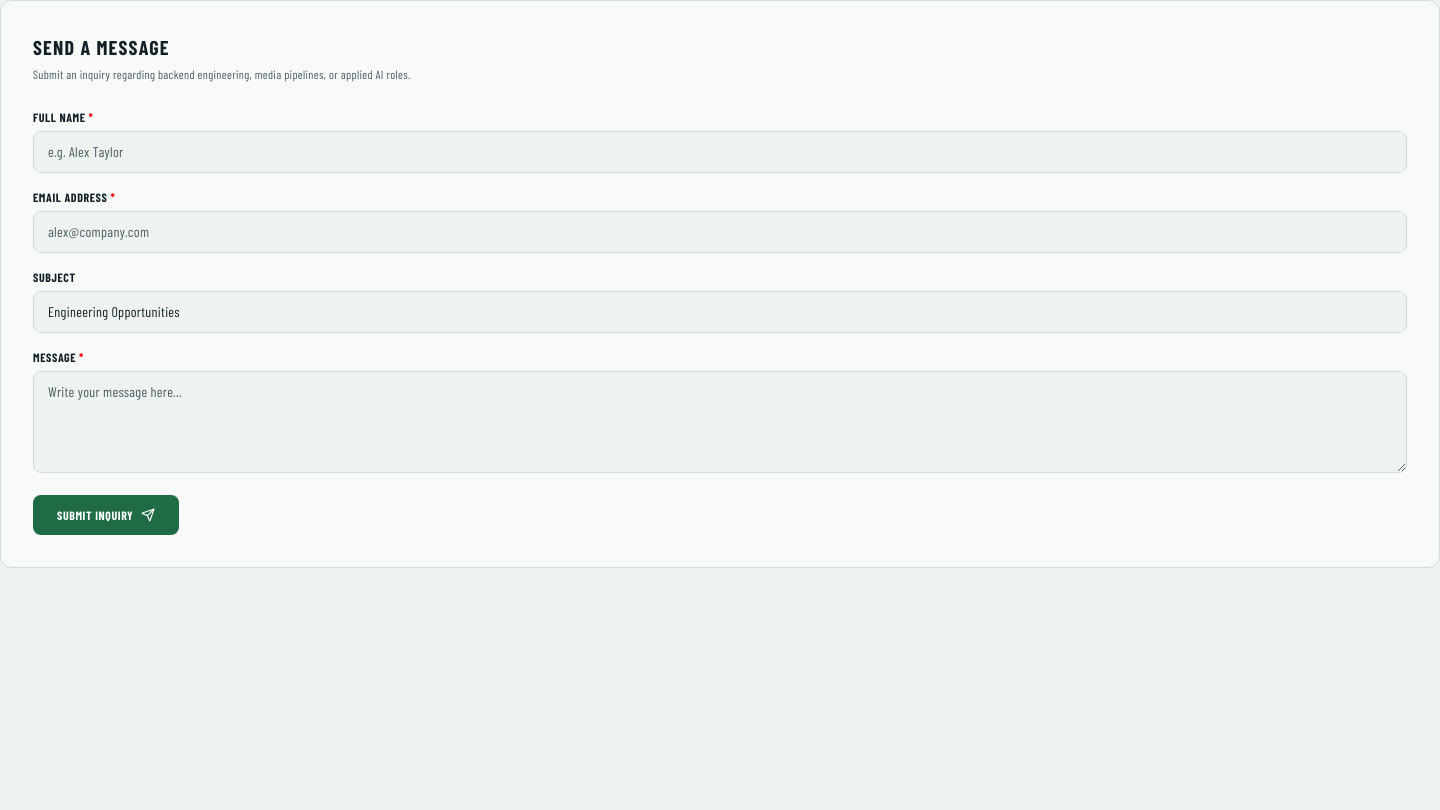
Test: ContactForm Component › handles server submission errors, preserves entered field values, and provides retry option
In the field labelled "Full Name *": [720, 152] box [33, 130, 1407, 172], type "Sam Reed"
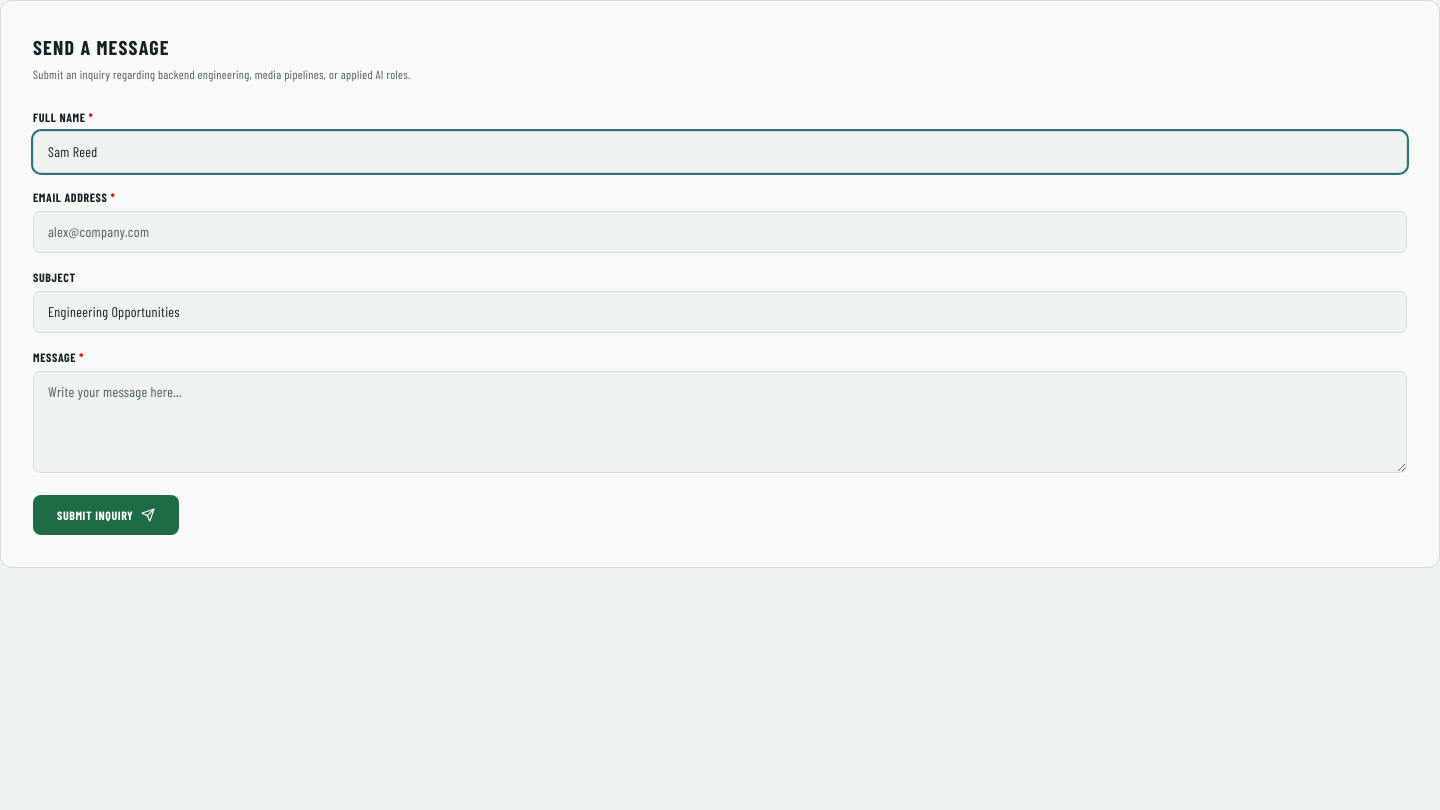
In the field labelled "Email Address *": [720, 232] box [33, 210, 1407, 252], type "sam@example.com"
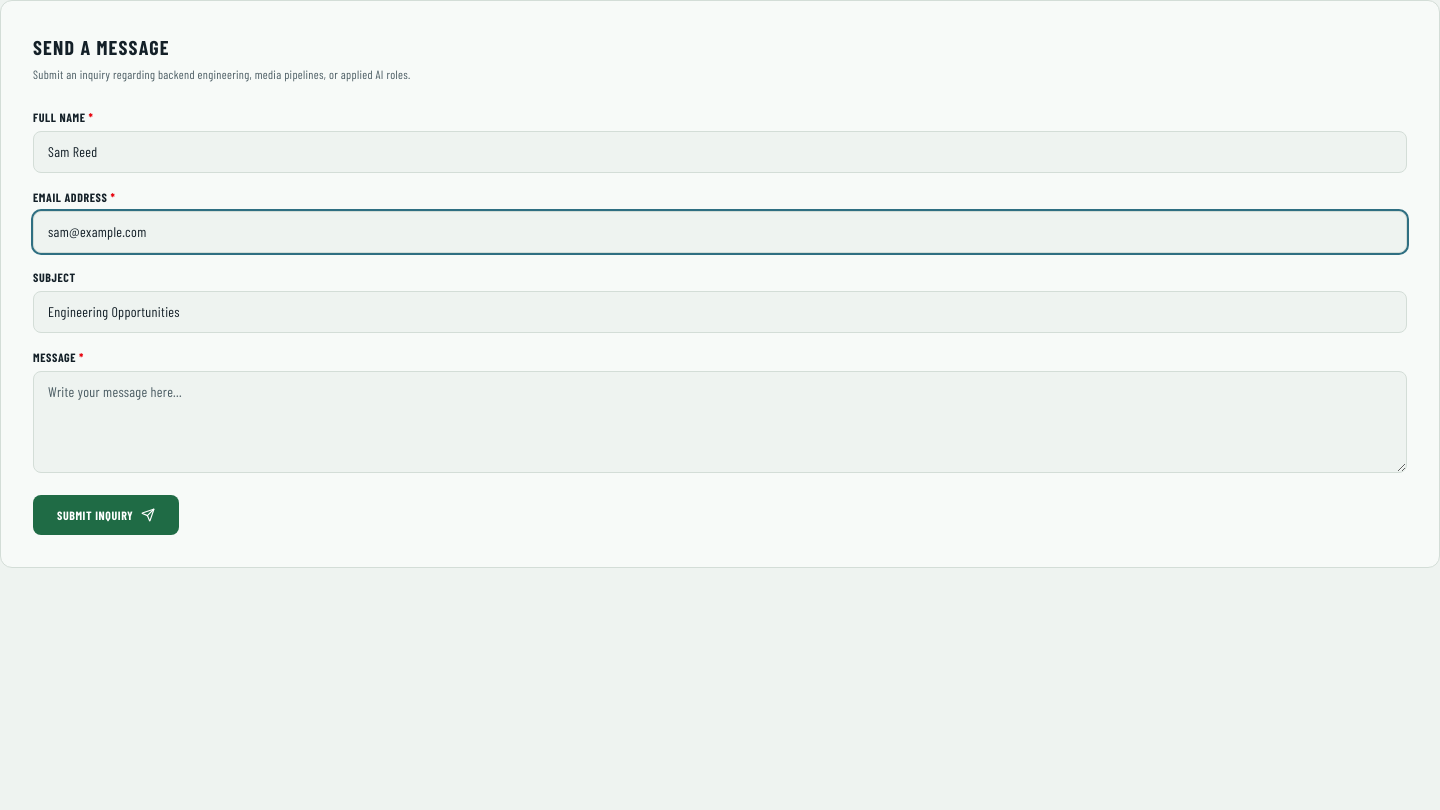
In the text box labelled "Message *": [720, 422] box [33, 370, 1407, 472], type "Checking pipeline throughput specs."
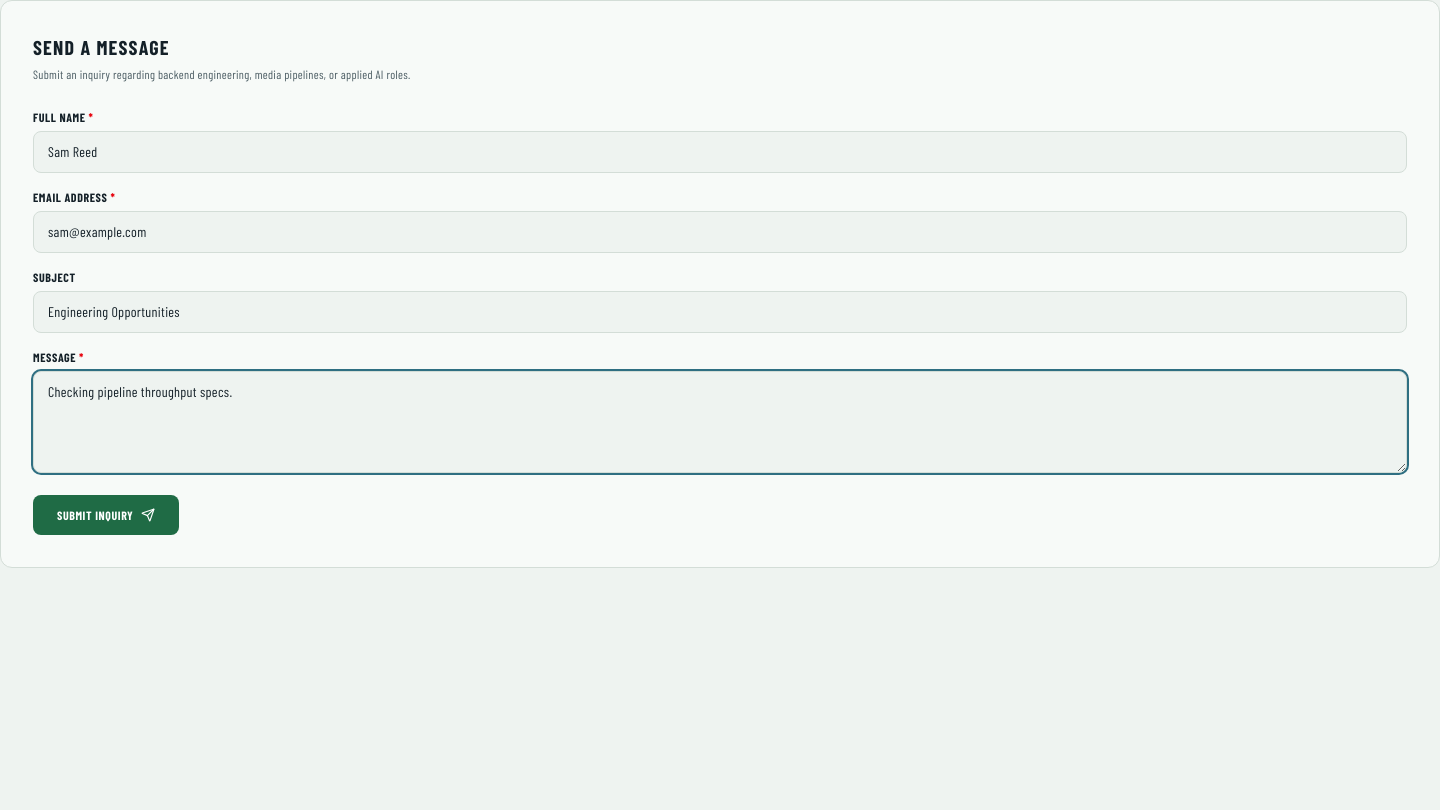
Click the button "Submit Inquiry": [106, 514] box [33, 494, 179, 534]
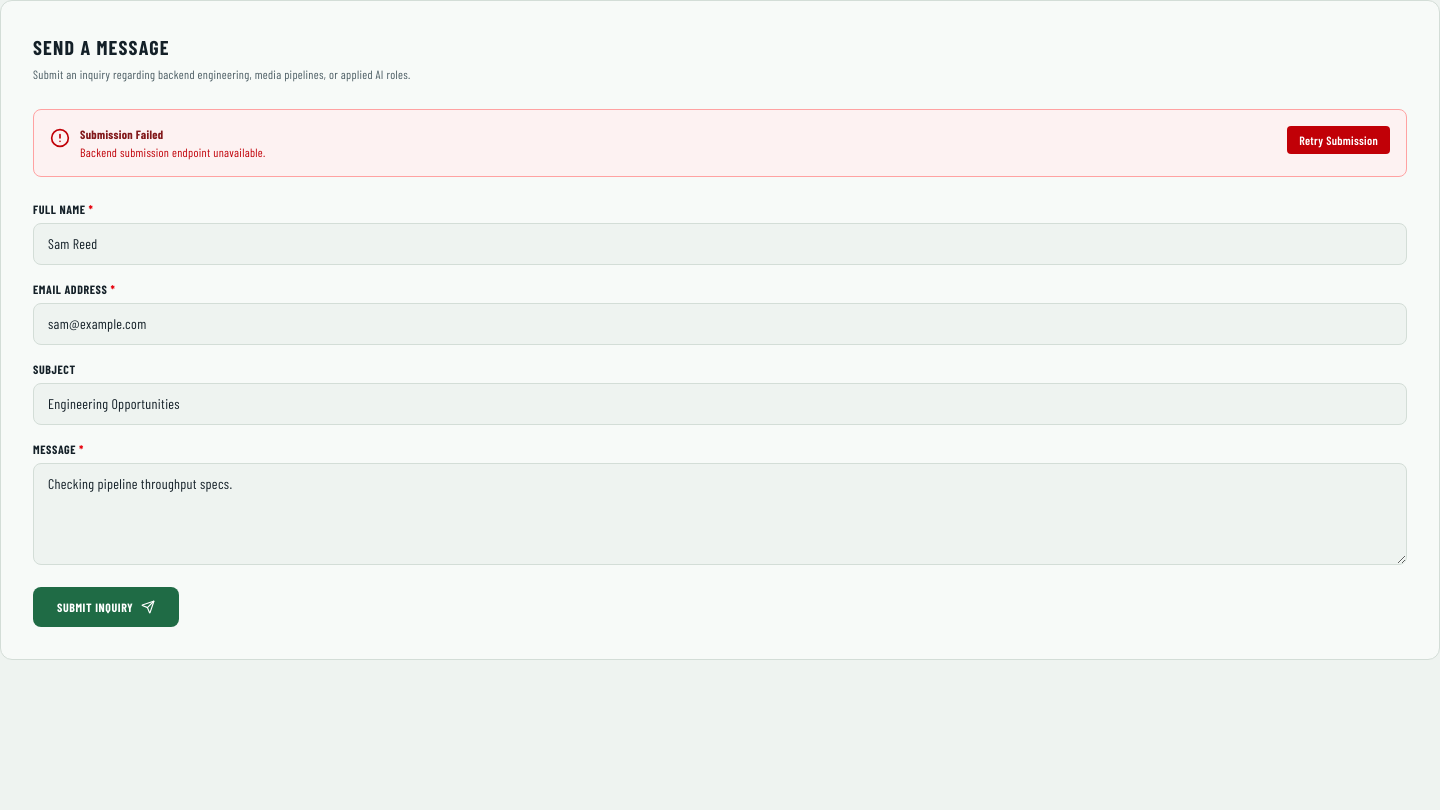
expect the text "Backend submission endpoint unavailable." is shown: met, box [80, 144, 266, 160]
expect the button "Retry Submission" is shown: met, box [1287, 126, 1390, 154]
